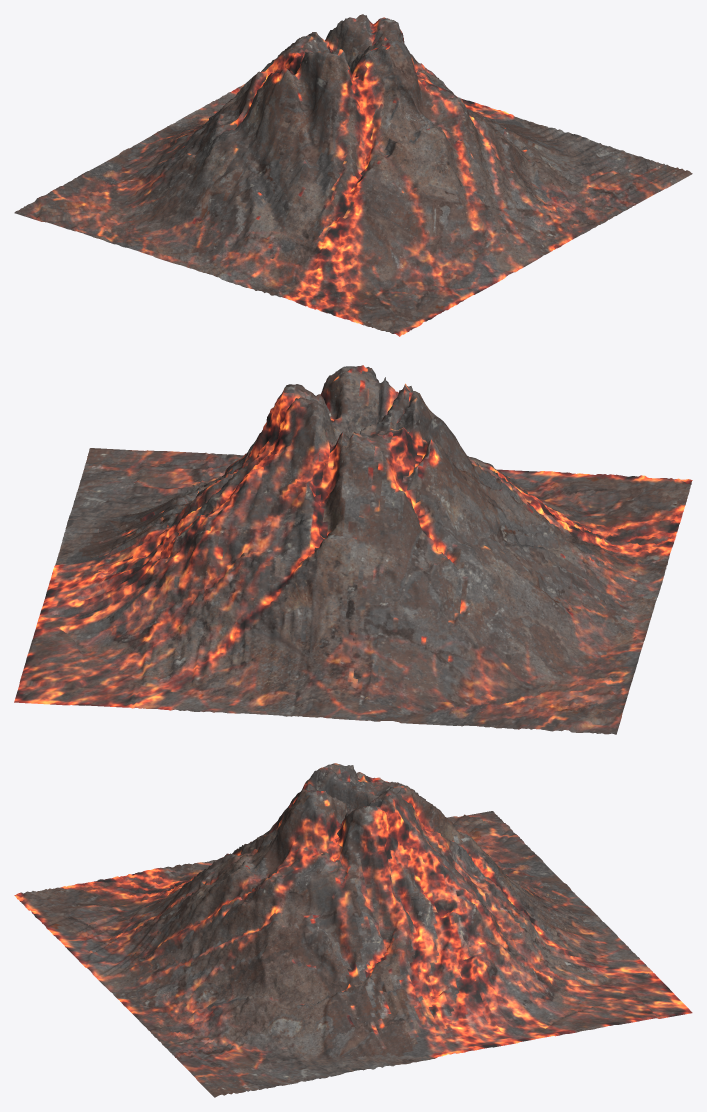
File: volcano.fbx
The picture shows the model from 3 angles, top to bottom: view 1: azimuth 30°, elevation 25°; view 2: azimuth 150°, elevation 25°; view 3: azimuth 270°, elevation 25°; orthographic projection. The views are drawn at different scales.
Visible parts, largest first — view 1: Landscape; view 2: Landscape; view 3: Landscape.
Part boxes in pixels (x1=…): Landscape: x1=14, y1=14, x2=692, y2=336; Landscape: x1=14, y1=365, x2=692, y2=734; Landscape: x1=14, y1=763, x2=692, y2=1097.
Size of the model in its own units: 9943 by 2809 by 9943.
